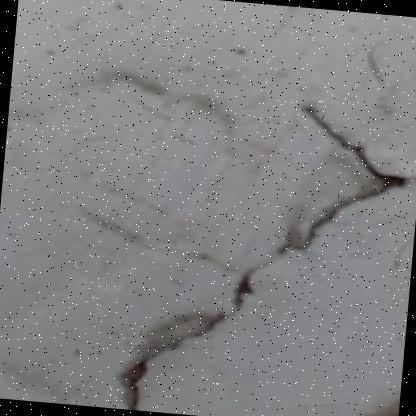Crack: (54, 65, 415, 415)
